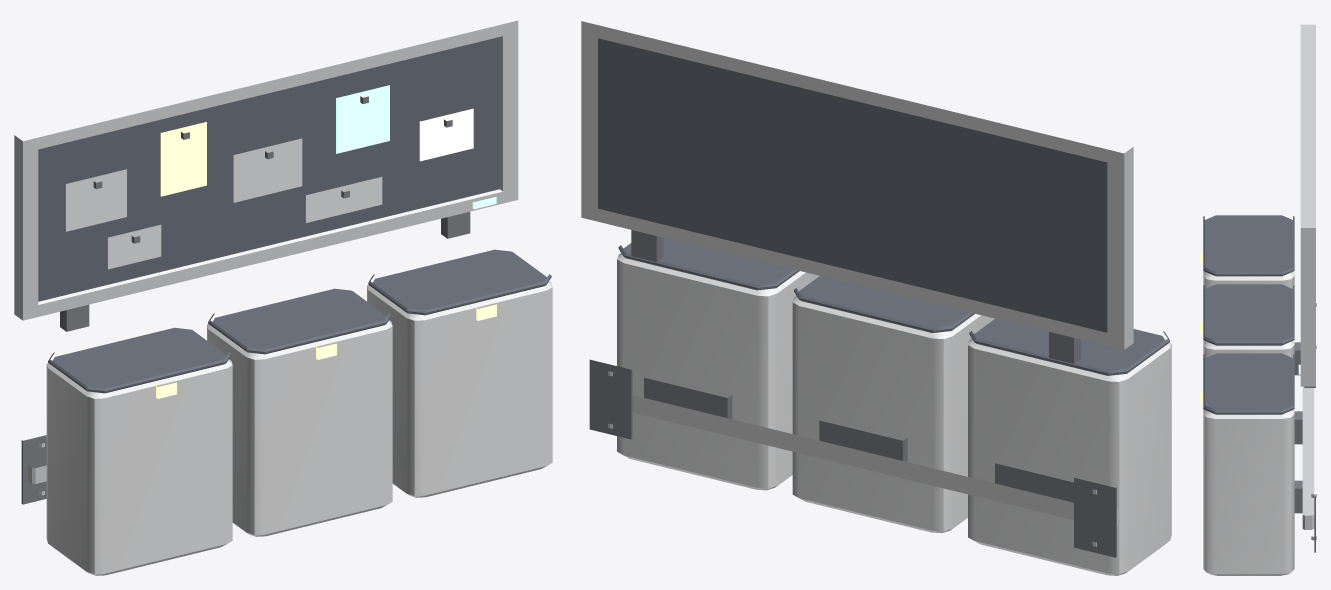
The model's file is lost_and_found_rail_bins.glb.
3 views of the same model, side by side, from view 1: azimuth 30°, elevation 25°; view 2: azimuth 150°, elevation 25°; view 3: azimuth 270°, elevation 25° (orthographic). The views are drawn at different scales.
Parts seen in each view (by area): view 1: Bins, Board_Panel, Bin_Lids, Board_Frame, Cards_white, Cards_green, Cards_amber, Cards_violet, Wall_Plates, Board_Brackets, Bin_Latches; view 2: Bins, Board_Panel, Board_Frame, Bin_Lids, Wall_Rail, Wall_Plates, Bin_Hooks, Board_Brackets; view 3: Bins, Bin_Lids, Board_Frame, Wall_Rail, Bin_Hooks.
Part boxes in pixels (x1,y1,x2,y2): Bins: (46,281,552,575); Board_Panel: (38,37,499,301); Bin_Lids: (48,249,551,393); Board_Frame: (14,20,518,320); Cards_white: (65,138,382,269); Cards_green: (336,85,389,153); Cards_amber: (160,122,206,196); Cards_violet: (419,108,473,161); Wall_Plates: (21,435,46,504); Board_Brackets: (60,211,470,331); Bin_Latches: (156,304,496,398); Bins: (617,253,1171,575); Board_Panel: (598,38,1107,332); Board_Frame: (581,21,1133,349); Bin_Lids: (618,238,1169,375); Wall_Rail: (632,395,1118,526); Wall_Plates: (589,359,1116,557); Bin_Hooks: (644,377,1073,502); Board_Brackets: (631,230,1081,363); Bins: (1203,271,1294,575); Bin_Lids: (1203,215,1294,414); Board_Frame: (1300,24,1315,386); Wall_Rail: (1302,386,1314,529); Bin_Hooks: (1294,342,1302,513).
Bounding box in the file's own units: 1.3 × 1.01 × 0.2999.
